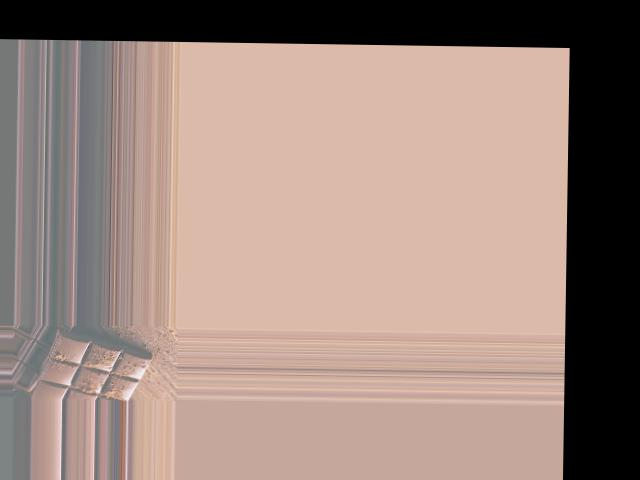chocolate: (30, 331, 158, 400)
